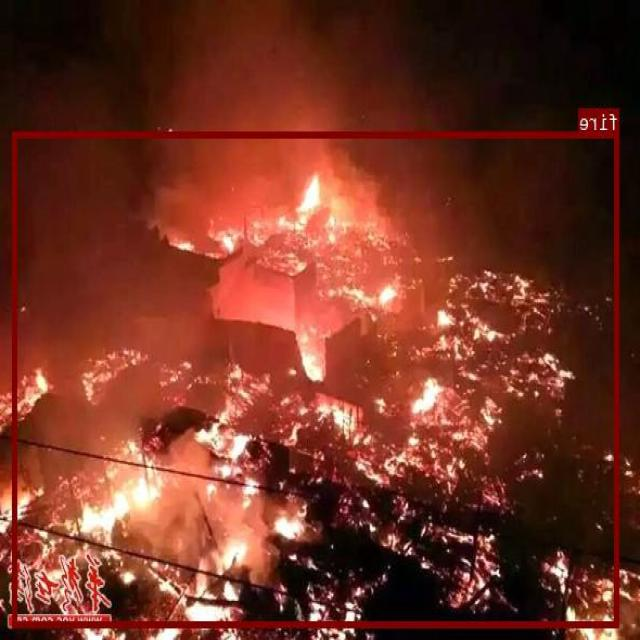fire: (13, 131, 620, 627)
